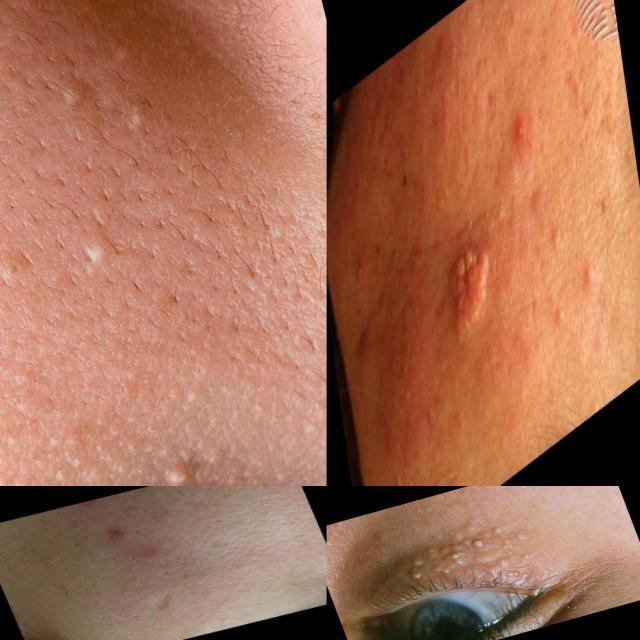Pimples: (440, 226, 500, 356), (121, 539, 173, 574), (463, 556, 514, 580), (578, 236, 598, 296), (144, 588, 184, 617), (511, 98, 532, 150), (442, 517, 482, 543), (498, 530, 535, 558), (548, 202, 568, 252), (550, 288, 569, 338), (420, 542, 444, 564), (466, 534, 487, 554), (517, 550, 541, 564), (504, 566, 526, 580), (448, 550, 467, 566), (408, 569, 428, 581)
